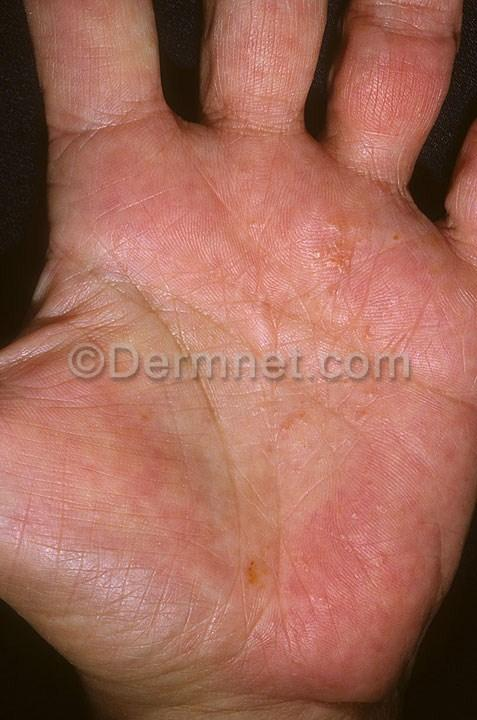Eczema: (130, 442, 232, 580), (285, 589, 408, 669), (315, 540, 435, 610), (67, 386, 163, 469), (329, 428, 426, 510), (301, 294, 402, 365), (55, 235, 142, 314), (32, 335, 125, 408), (55, 473, 135, 556), (329, 493, 422, 556), (335, 365, 408, 442), (0, 456, 60, 549), (215, 226, 277, 305), (307, 214, 377, 281), (337, 171, 405, 236), (383, 230, 449, 295), (340, 91, 407, 155), (223, 151, 297, 208), (224, 30, 286, 98), (427, 426, 459, 554), (145, 236, 216, 293), (157, 161, 217, 223), (8, 410, 72, 468), (252, 0, 308, 65), (77, 201, 162, 243), (240, 310, 302, 366), (370, 39, 435, 91), (417, 305, 477, 361), (66, 49, 119, 109), (39, 1, 113, 43), (235, 550, 284, 612), (94, 162, 150, 215), (259, 399, 312, 455), (225, 101, 272, 149), (428, 385, 477, 429)
